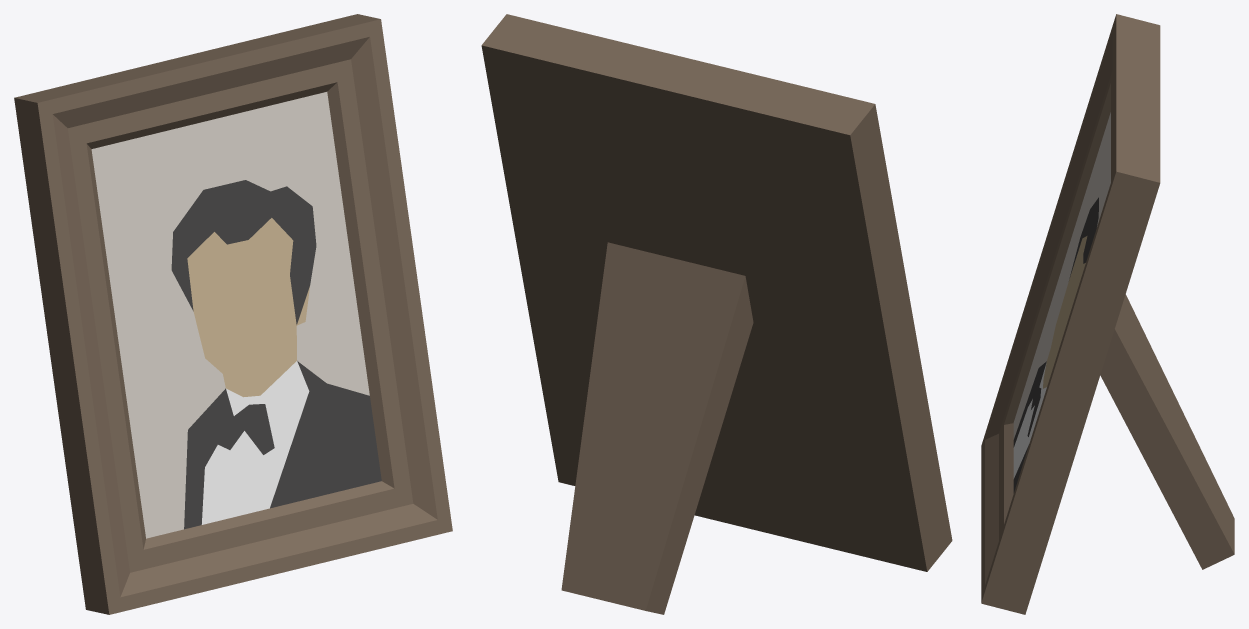
Rendered from SM_Prop_Art_Standing_01.fbx.
3 views of the same model, side by side, from view 1: azimuth 30°, elevation 25°; view 2: azimuth 150°, elevation 25°; view 3: azimuth 270°, elevation 25° (orthographic). The views are drawn at different scales.
Visible parts, largest first — view 1: SM_Prop_Art_Standing_01; view 2: SM_Prop_Art_Standing_01; view 3: SM_Prop_Art_Standing_01.
Boxes of the visible parts, bbox=[...] form: SM_Prop_Art_Standing_01: bbox=[14, 14, 452, 614]; SM_Prop_Art_Standing_01: bbox=[481, 14, 952, 614]; SM_Prop_Art_Standing_01: bbox=[981, 14, 1234, 614].
Size of the model in its own units: 34.84 by 46.46 by 23.68.
